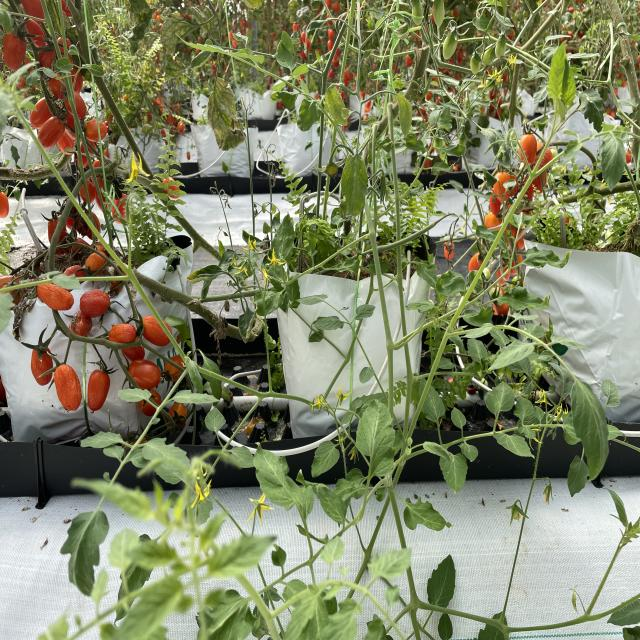Soilbag: (10, 239, 195, 448), (279, 245, 425, 445), (513, 219, 640, 421)
plant: (0, 2, 163, 258)
